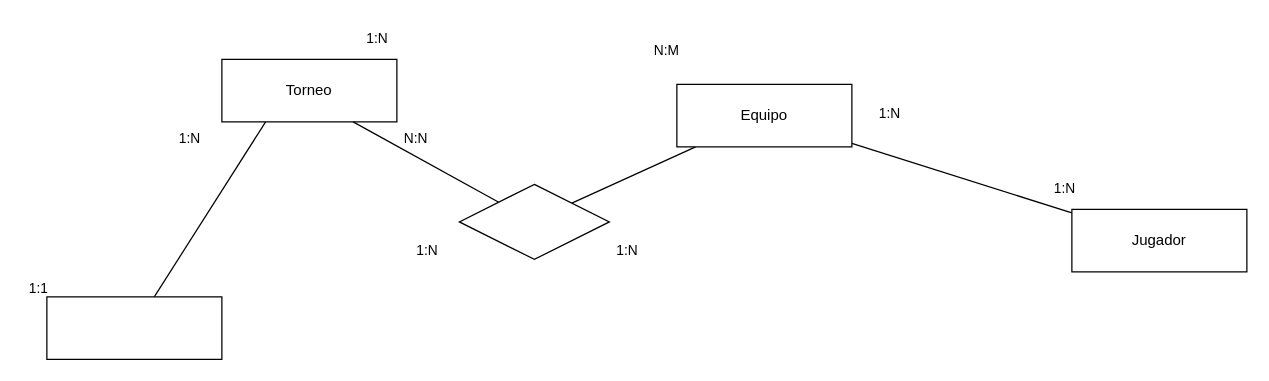
The diagram is 1269 pixels wide and 381 high, and some of its shapes have lost their labels. The centre of each missing label's shape, as x and y in pixels:
Inscripcion: the point at 533,221
Resultado: the point at 134,327
